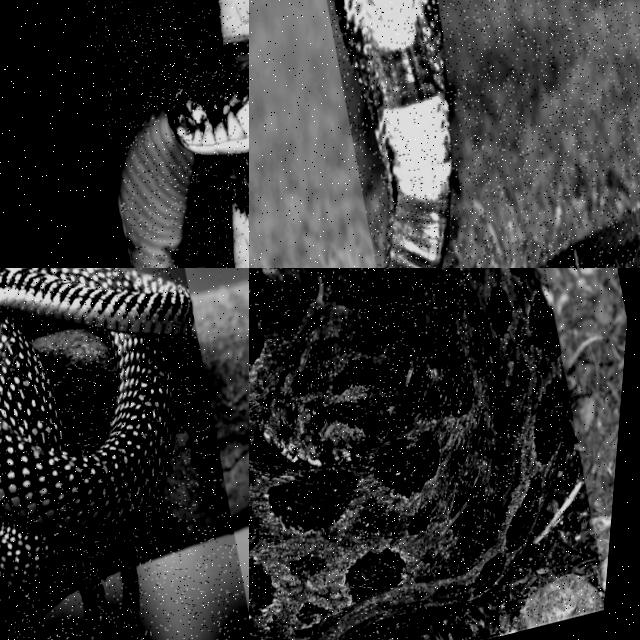Bungarus fasciatus: (118, 0, 248, 267)
Chrysopelea ornata: (0, 268, 191, 639)
Daboia siamensis: (249, 268, 565, 639)
Naja kaouthia: (333, 0, 450, 267)
